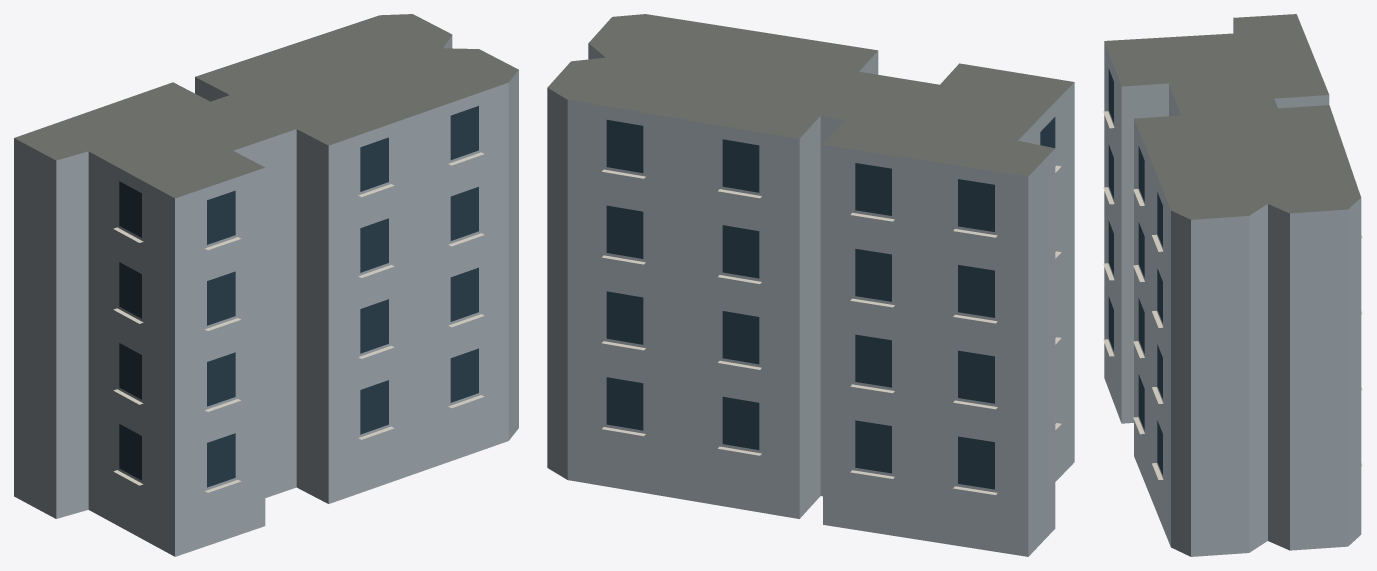
3 renders of one model, left to right at view 1: azimuth 30°, elevation 25°; view 2: azimuth 150°, elevation 25°; view 3: azimuth 270°, elevation 25°, orthographic. The views are drawn at different scales.
Parts seen in each view (by area): view 1: Footprint 0, Inferred window bays, Window sills; view 2: Footprint 0, Inferred window bays, Window sills; view 3: Footprint 0, Inferred window bays, Window sills.
Boxes of the visible parts, left/top/right/bottom form: Footprint 0: left=14, top=14, right=518, bottom=556; Inferred window bays: left=119, top=106, right=478, bottom=487; Window sills: left=113, top=152, right=484, bottom=492; Footprint 0: left=547, top=14, right=1074, bottom=556; Inferred window bays: left=606, top=117, right=1055, bottom=489; Window sills: left=602, top=165, right=1061, bottom=494; Footprint 0: left=1104, top=14, right=1361, bottom=556; Inferred window bays: left=1108, top=68, right=1162, bottom=475; Window sills: left=1103, top=111, right=1362, bottom=479.
Size of the model in its own units: 17.34 by 13.24 by 9.24.
